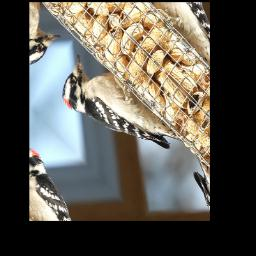Woodpecker: (53, 39, 184, 190)
